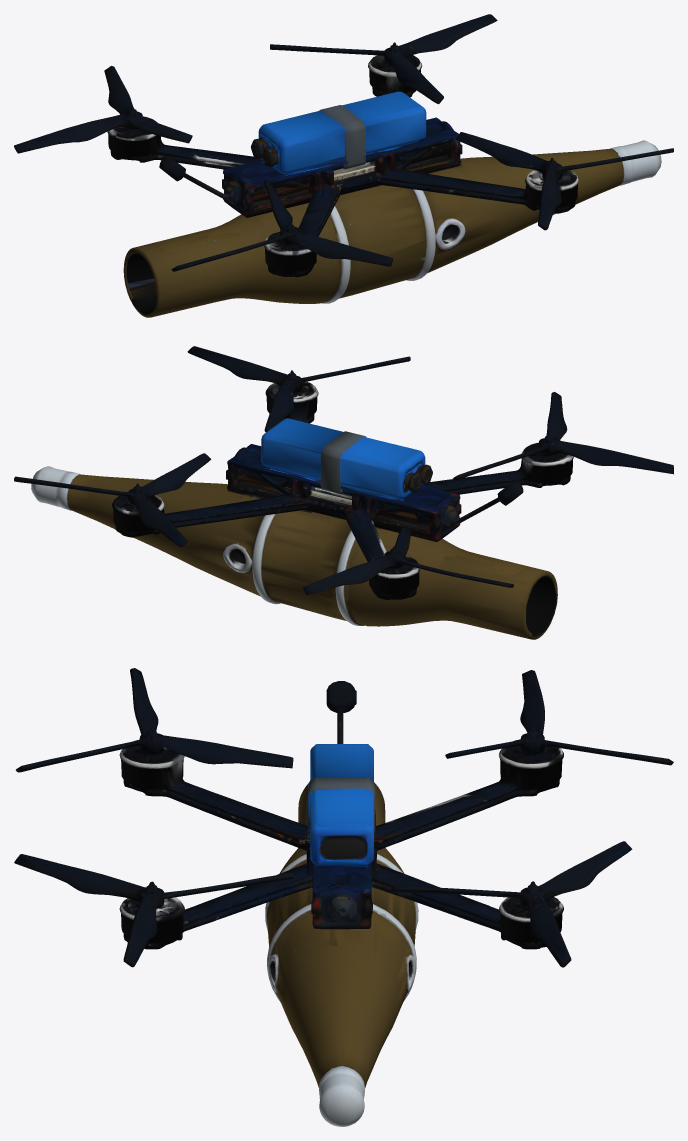
Rendered from realistic_fpv_kamikaze_drone.glb.
The picture shows the model from 3 angles, top to bottom: view 1: azimuth 30°, elevation 25°; view 2: azimuth 150°, elevation 25°; view 3: azimuth 270°, elevation 25°; orthographic projection. The views are drawn at different scales.
Visible parts, largest first — view 1: material; view 2: material; view 3: material.
Boxes of the visible parts, x1,y1,x2,y2 form: material: (14, 14, 673, 317); material: (14, 346, 673, 639); material: (14, 668, 673, 1126).
Size of the model in its own units: 1.05 by 0.3154 by 0.8767.
Materials: 1 (1 with a texture image).
